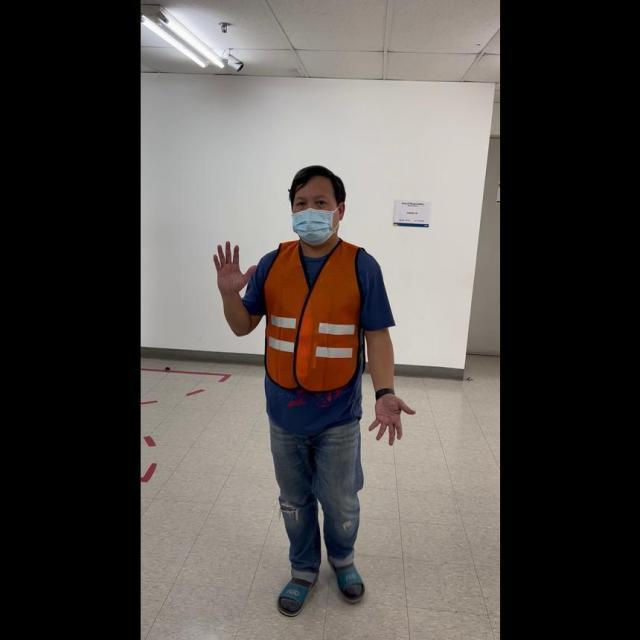bare_hand: (366, 389, 414, 445), (210, 237, 253, 297)
